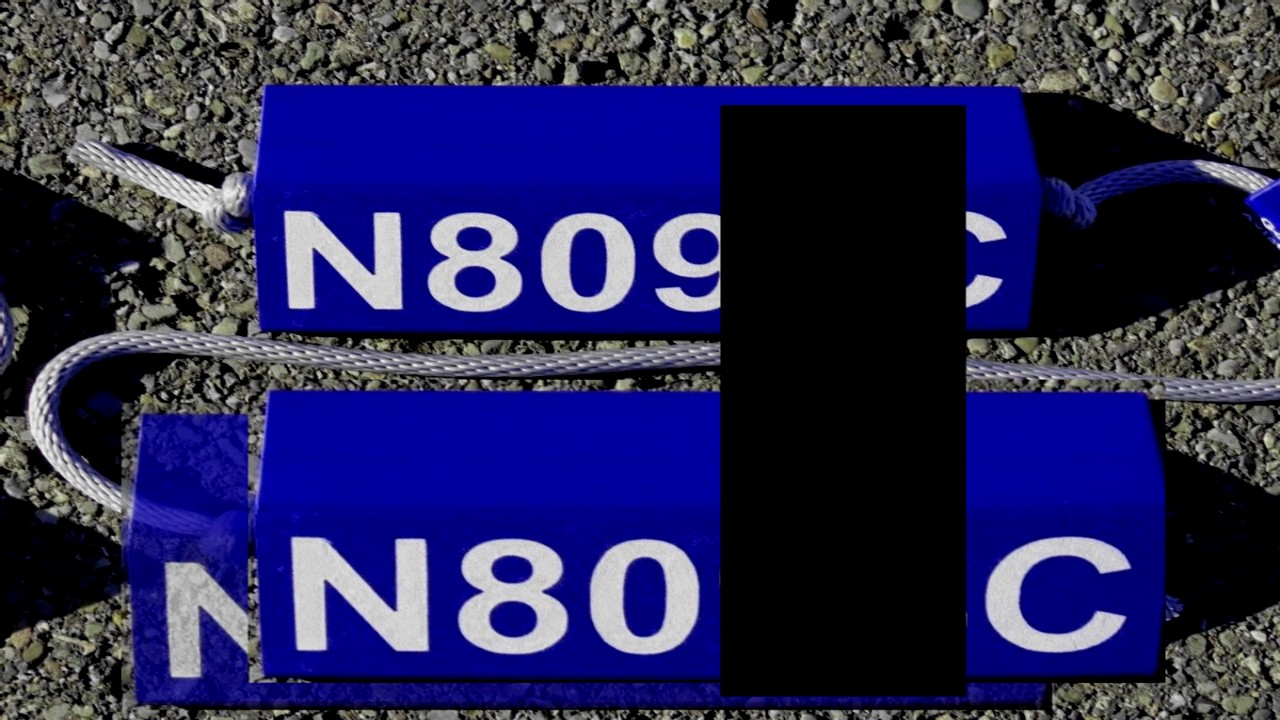chock: (121, 402, 1052, 710), (247, 379, 1165, 682), (286, 402, 1123, 678), (244, 400, 1053, 671), (247, 76, 1036, 336)
